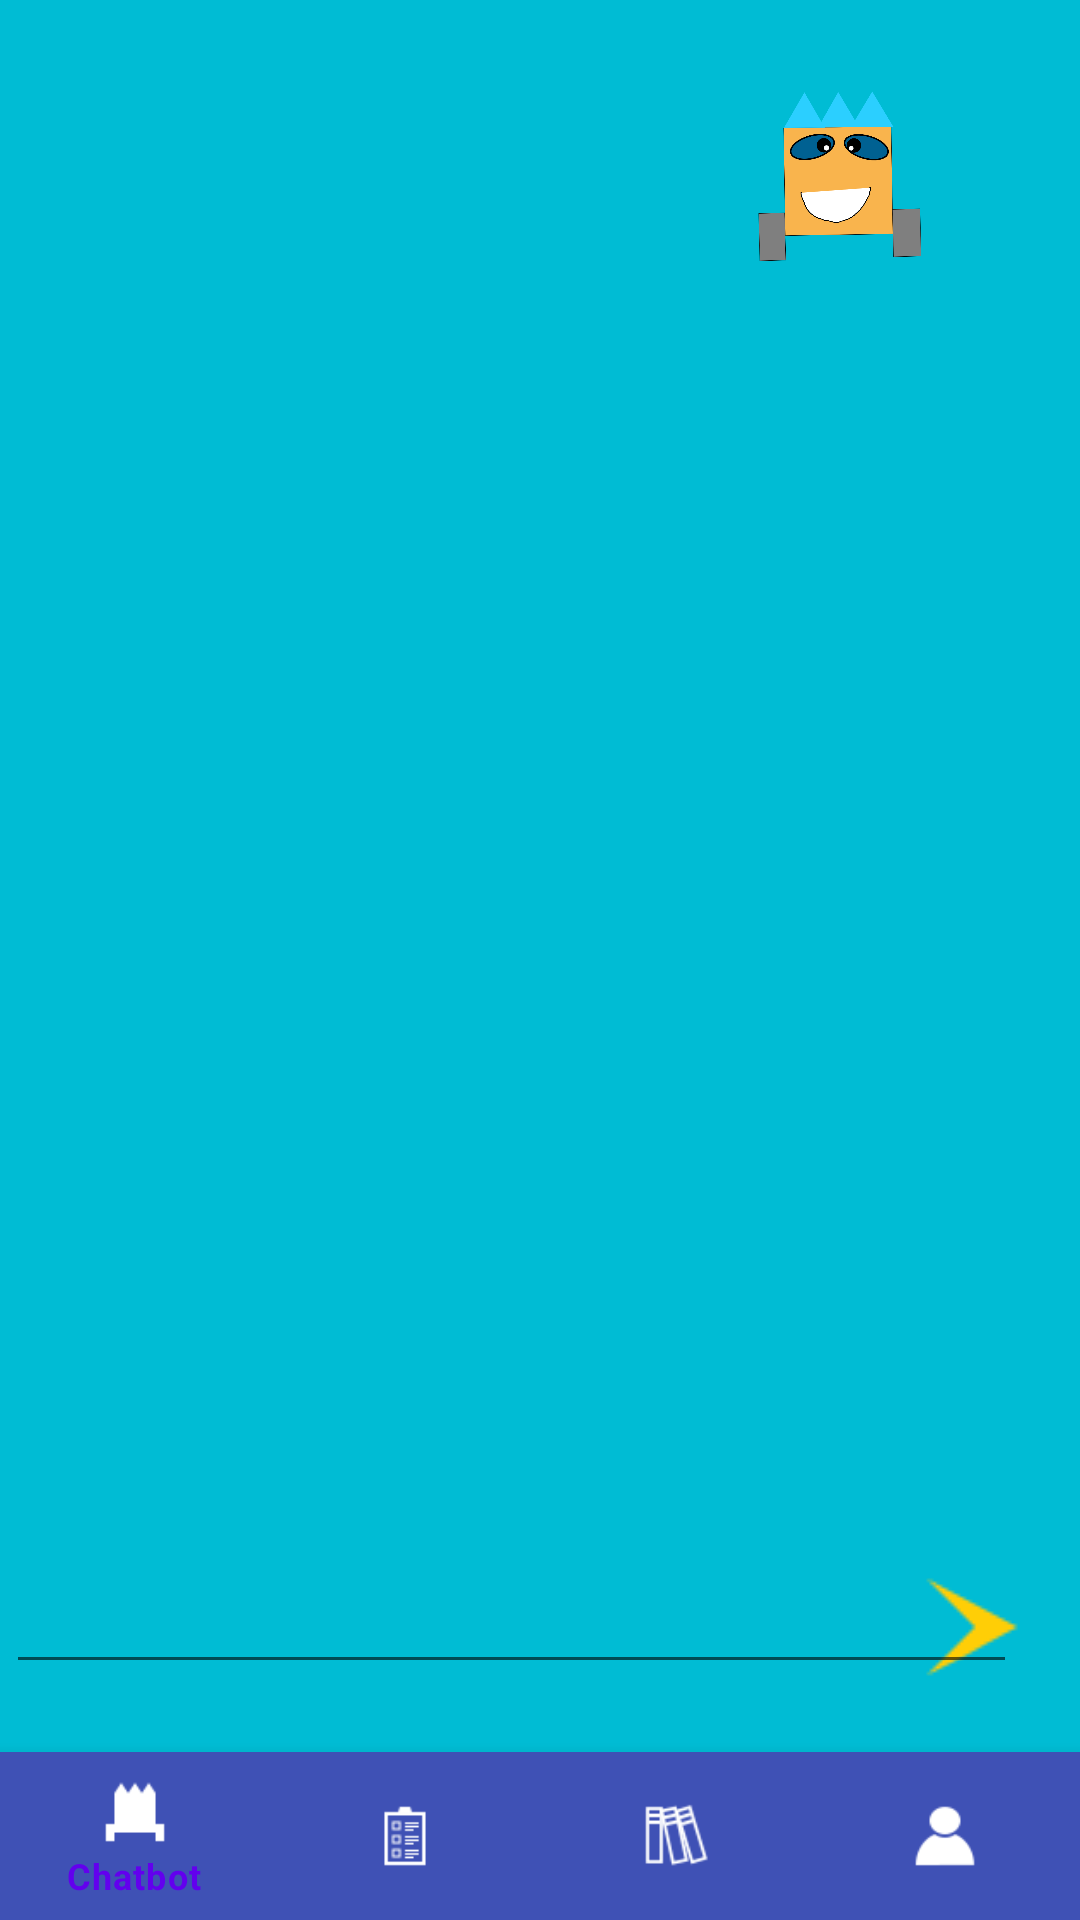

Named icons in this screenshot (1080*1920) and their bounding boxes, (x1, y1, x2, y2):
chara: (758, 92, 921, 261)
send: (912, 1579, 1018, 1675)
